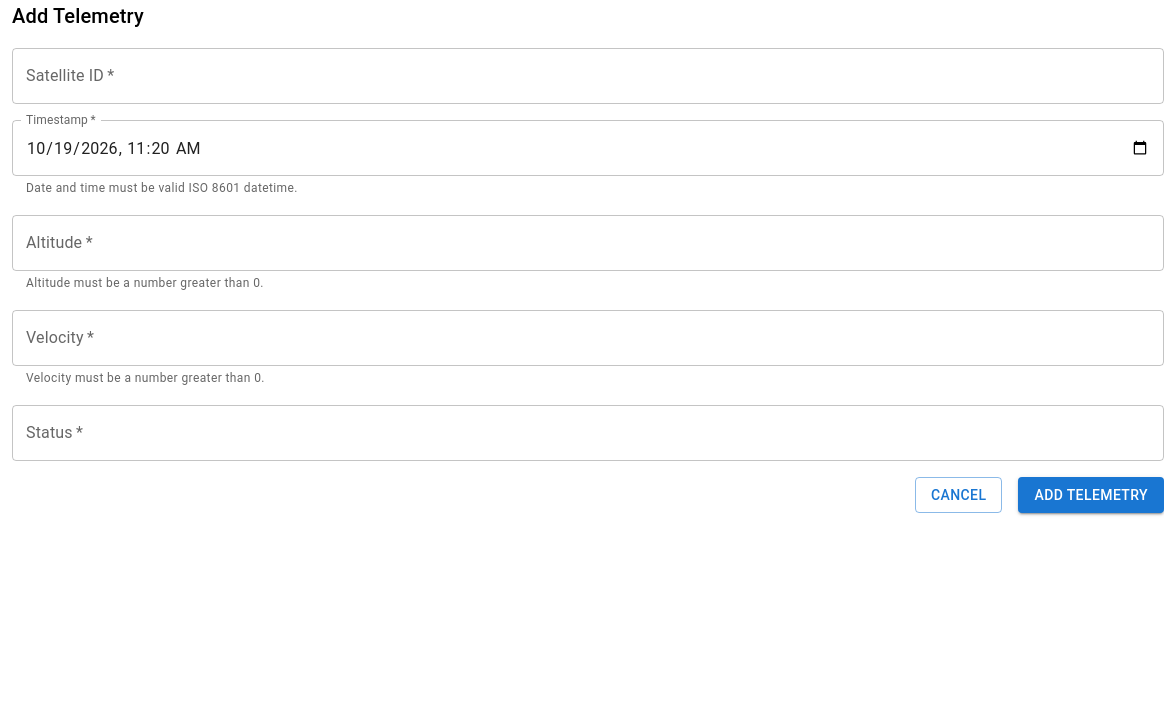
Test: TelemetryForm › displays an error when submission fails
The image size is (1176, 720).
Type "SAT-001" into the field with id "telemetry-satellite-id" at (588, 76), box x1=12 y1=48 x2=1164 y2=104
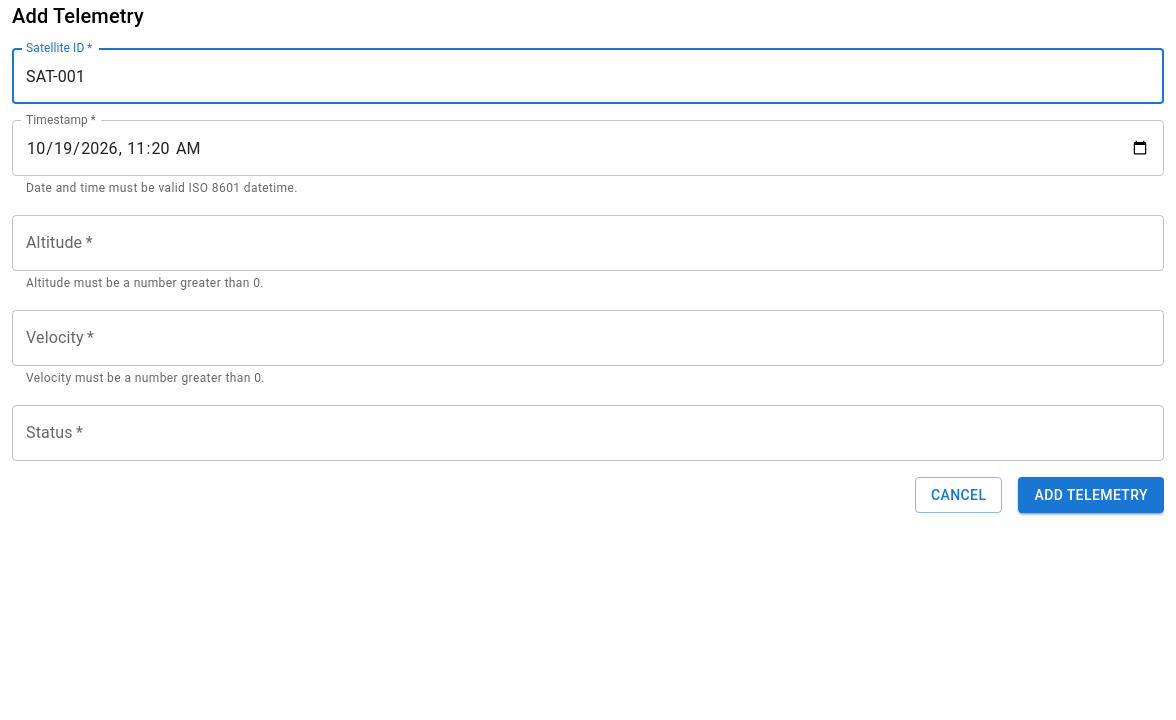
Replace the text in the field with id "telemetry-timestamp" with "2026-10-17T12:00" at (588, 148), box x1=12 y1=120 x2=1164 y2=176
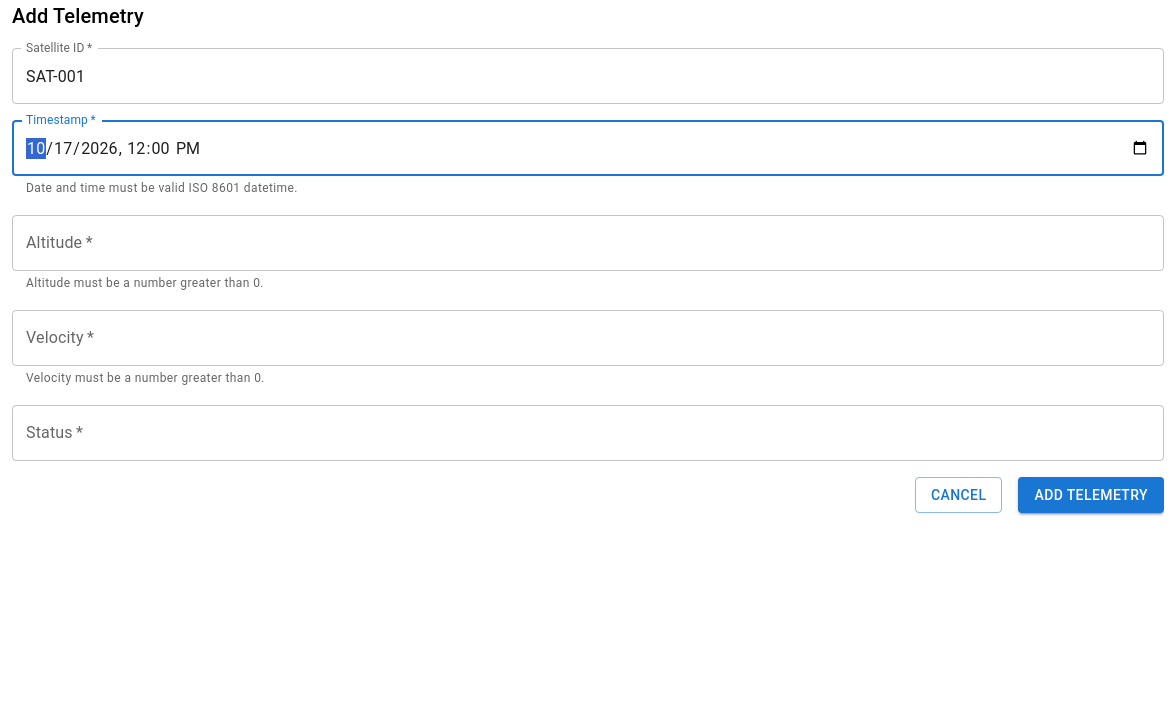
Type "400" into the number field with id "telemetry-altitude" at (588, 243), box x1=12 y1=215 x2=1164 y2=271
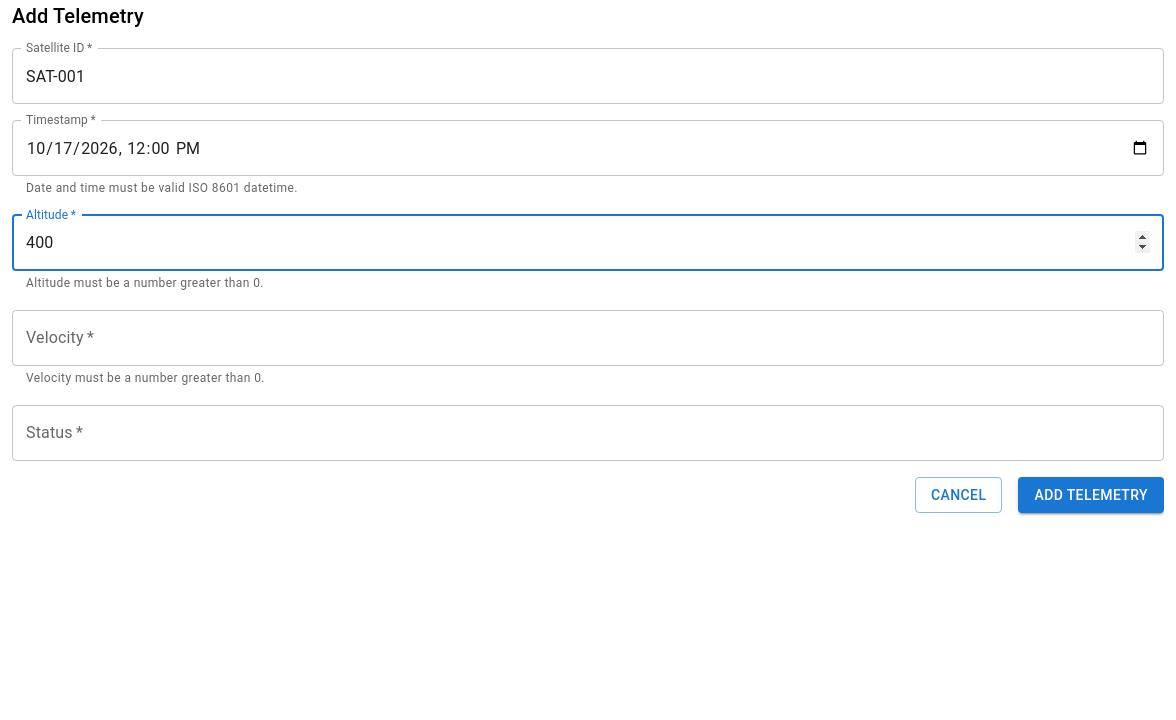
Type "7.8" into the number field with id "telemetry-velocity" at (588, 338), box x1=12 y1=310 x2=1164 y2=366
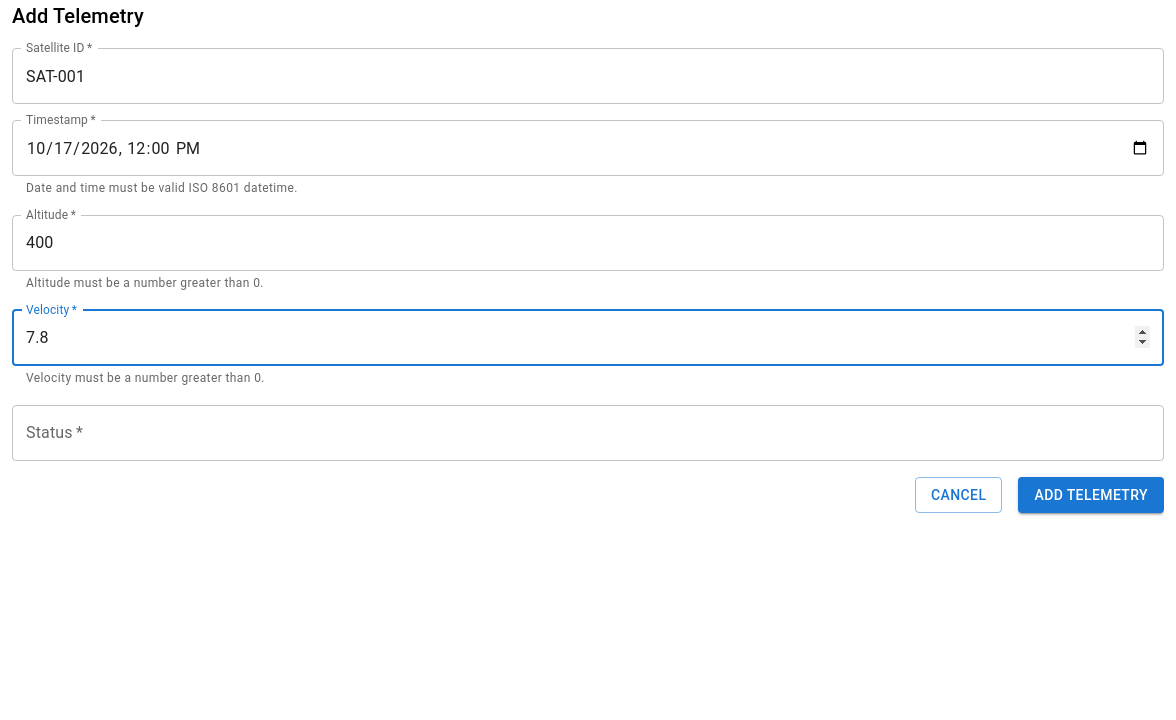
Type "nominal" into the field with id "telemetry-status" at (588, 433), box x1=12 y1=405 x2=1164 y2=461
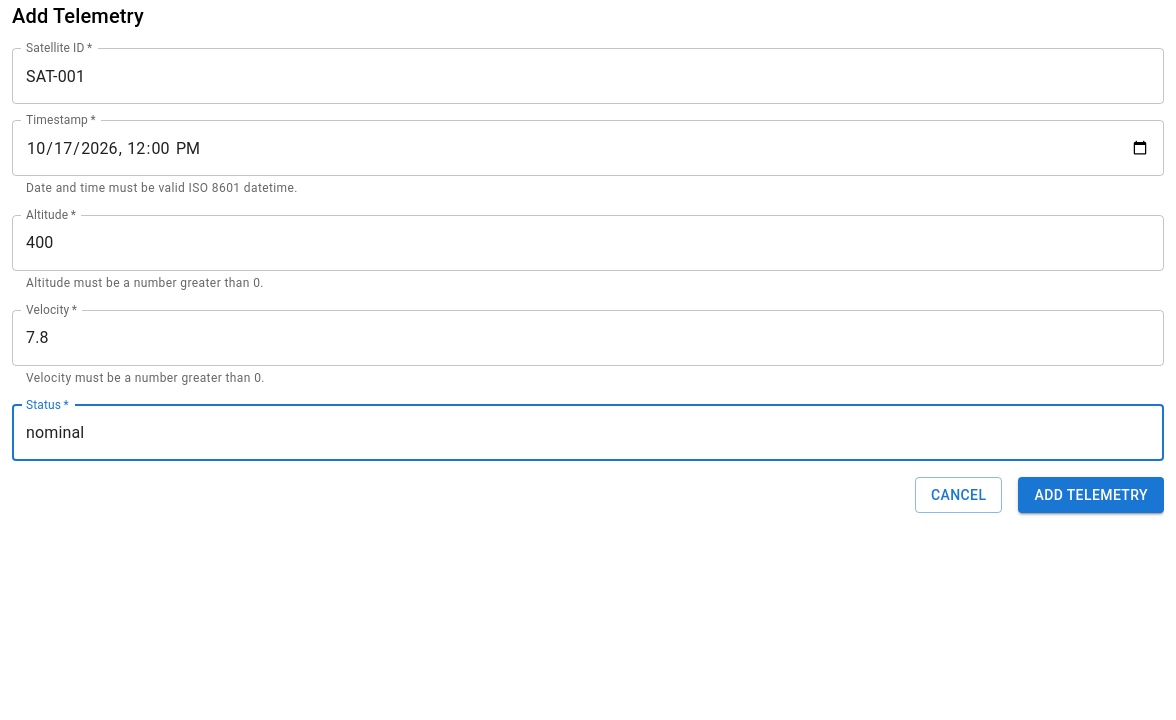
Click the button "Add Telemetry" at (1091, 495), box x1=1018 y1=477 x2=1164 y2=513
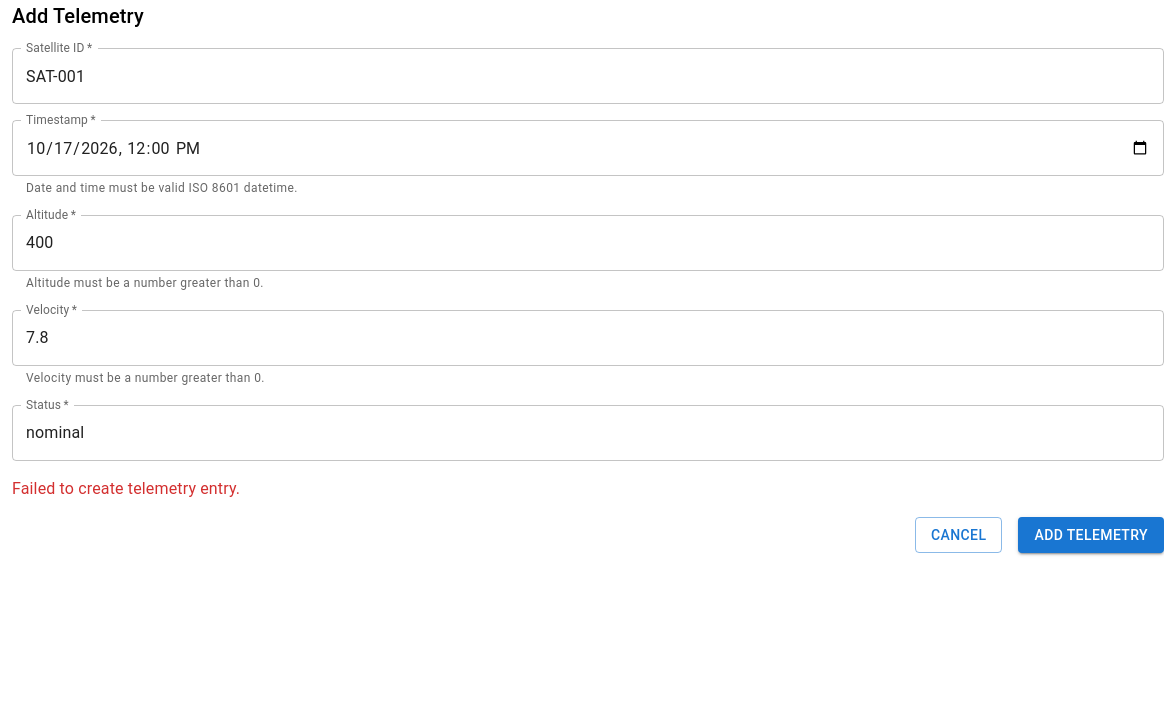
expect the message reads "Failed to create telemetry entry.": met, box x1=12 y1=479 x2=240 y2=498
